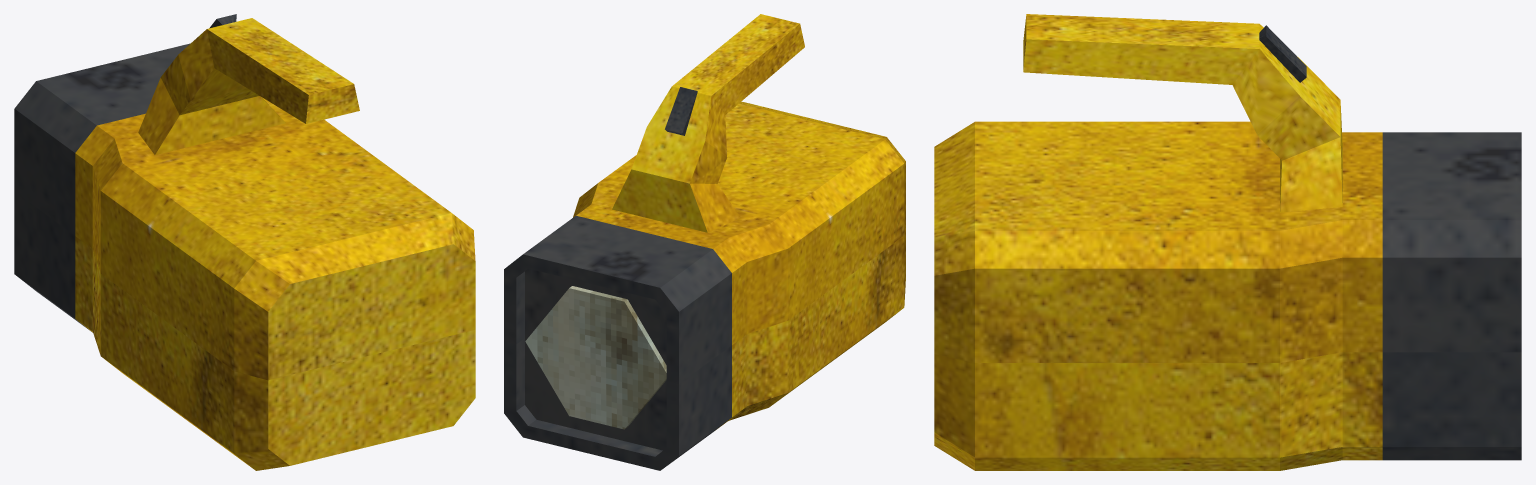
Rendered from flashlight.fbx.
The picture shows the model from 3 angles, left to right: view 1: azimuth 30°, elevation 25°; view 2: azimuth 150°, elevation 25°; view 3: azimuth 270°, elevation 25°; orthographic projection. The views are drawn at different scales.
Parts seen in each view (by area): view 1: Flashlight; view 2: Flashlight; view 3: Flashlight.
Part boxes in pixels (left/top/right/bottom): Flashlight: left=14, top=14, right=475, bottom=470; Flashlight: left=504, top=14, right=905, bottom=470; Flashlight: left=934, top=14, right=1521, bottom=470.
Size of the model in its own units: 46.61 by 63.4 by 86.59.
